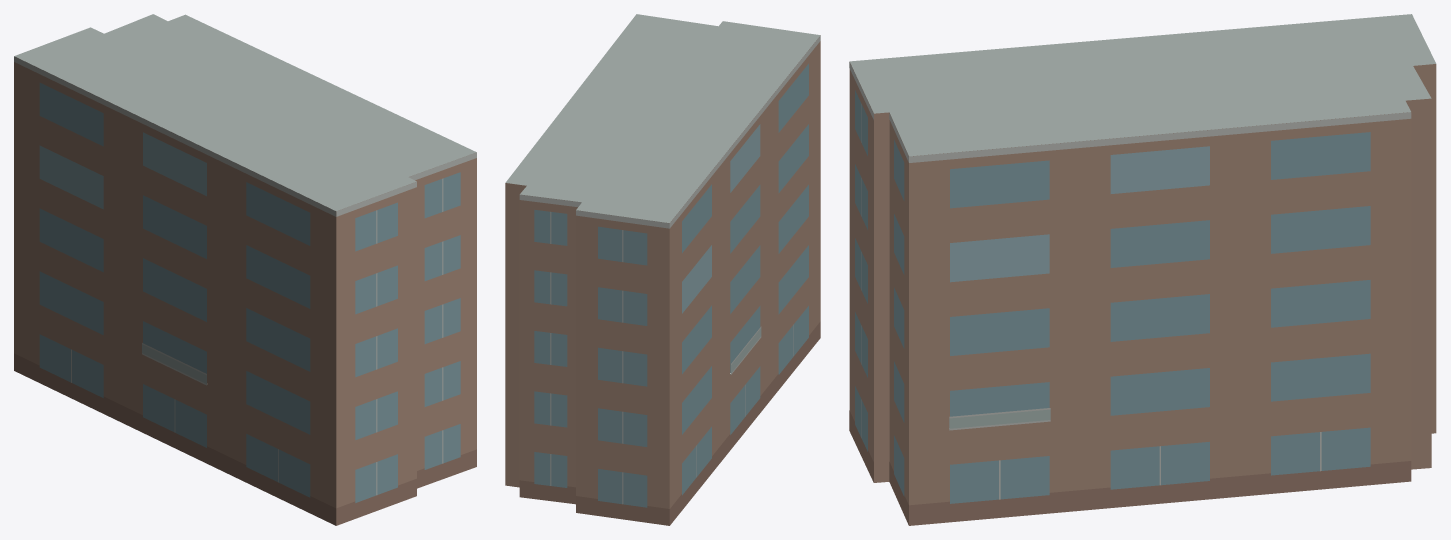
The model's file is survey-upis-32714467.glb.
3 views of the same model, side by side, from view 1: azimuth 30°, elevation 25°; view 2: azimuth 150°, elevation 25°; view 3: azimuth 270°, elevation 25° (orthographic). The views are drawn at different scales.
Visible parts, largest first — view 1: survey-upis-32714467.tmp; view 2: survey-upis-32714467.tmp; view 3: survey-upis-32714467.tmp.
Boxes of the visible parts, x1,y1,x2,y2 form: survey-upis-32714467.tmp: [14, 14, 476, 525]; survey-upis-32714467.tmp: [505, 14, 820, 525]; survey-upis-32714467.tmp: [849, 14, 1436, 525].
Size of the model in its own units: 11.17 by 13.5 by 19.45.
